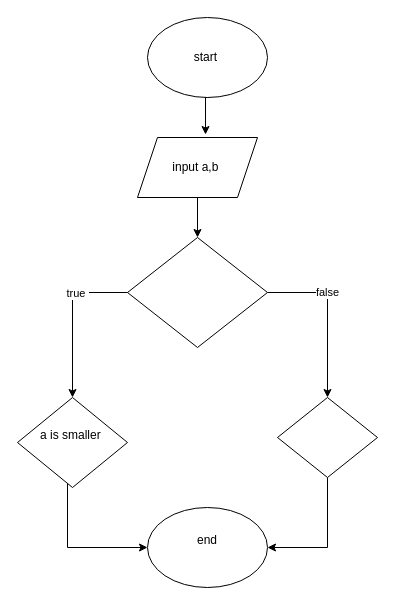
Image size: 395x605. Some labels were removed from this diagram. Here are the shapes that lost their labels. From the top down, the centre of each, then its label:
At point (197, 292): "a < b".
At point (327, 437): "b is smaller".
